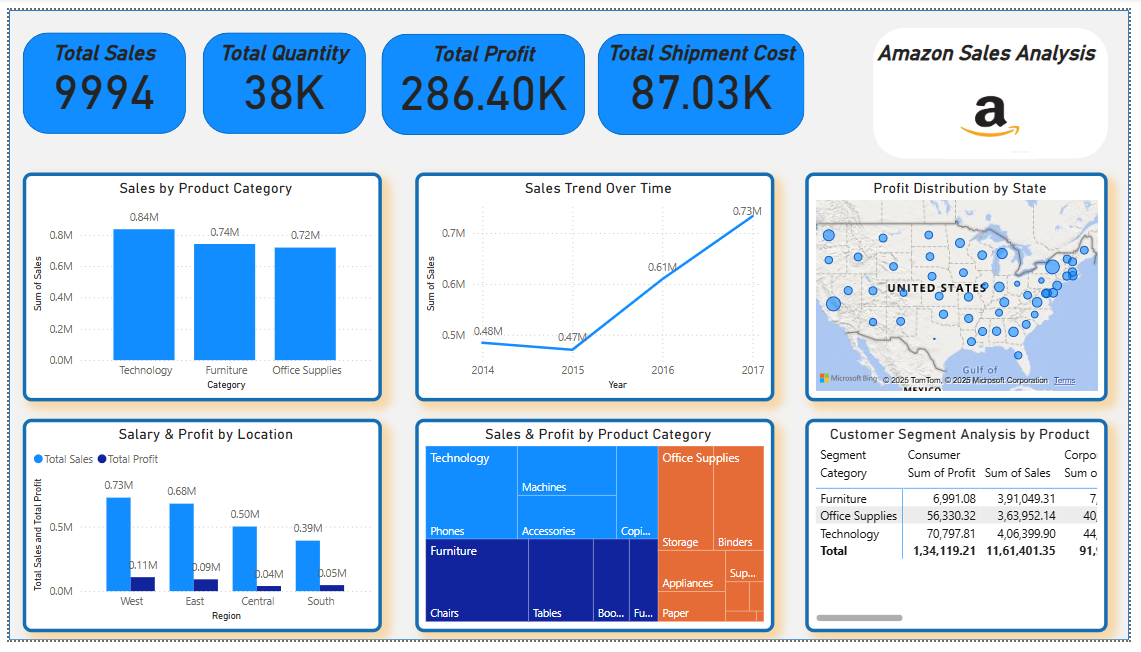

The page's visual inventory and layout, read from the dashboard file:
{"tool":"powerbi","page":{"name":"Page 1","canvas":[1280,720],"ordinal":0},"visuals":[{"type":"shape","box":[0,0,1280,720.3],"z":0},{"type":"shape","box":[221.4,25.7,186.6,115.7],"z":0,"group":"g2"},{"type":"shape","box":[987.1,20,269,150],"z":500,"group":"g5"},{"type":"group","id":"g1","title":"Group 1","box":[15.7,25.7,187.1,115.7],"z":1000},{"type":"card","title":"Total Quantity","fields":{"Values":["Sum(Orders.Quantity)"]},"box":[227.6,34.4,174.2,99.5],"z":1000,"group":"g2"},{"type":"image","box":[1067.3,74.4,107.1,95.7],"z":1000,"group":"g5"},{"type":"shape","box":[15.7,25.7,186.6,115.7],"z":1500,"group":"g1"},{"type":"group","id":"g2","title":"Group 2","box":[221.4,25.7,185.7,115.7],"z":2000},{"type":"textbox","box":[987.3,30.1,268.6,44.3],"z":2000,"group":"g5"},{"type":"card","title":"Total Sales","fields":{"Values":["CountNonNull(Orders.Order ID)"]},"box":[21.9,34.4,174.2,99.5],"z":2000,"group":"g1"},{"type":"shape","box":[425.7,27.1,232.6,115.7],"z":2002,"group":"g3"},{"type":"shape","box":[672.9,27.1,236.4,115.7],"z":2003,"group":"g4"},{"type":"card","title":"Total Profit","fields":{"Values":["Sum(Orders.Profit)"]},"box":[425.7,35.8,232.6,99.5],"z":2007,"group":"g3"},{"type":"card","title":"Total Shipment Cost","fields":{"Values":["Sum(Orders.Shipment Cost)"]},"box":[672.9,34.6,236.4,99.5],"z":2009,"group":"g4"},{"type":"group","id":"g3","title":"Group 3","box":[425.7,27.1,232.9,115.7],"z":3000},{"type":"group","id":"g4","title":"Group 4","box":[672.9,27.1,237.1,115.7],"z":4000},{"type":"clusteredColumnChart","title":"Sales by Product Category","fields":{"Category":["Orders.Category"],"Y":["Sum(Orders.Sales)"]},"box":[16.2,185.3,410.5,261.2],"z":5000},{"type":"lineChart","title":"Sales Trend Over Time","fields":{"Category":["Orders.Order Date.Variation.Date Hierarchy.Year","Orders.Order Date.Variation.Date Hierarchy.Quarter","Orders.Order Date.Variation.Date Hierarchy.Month","Orders.Order Date.Variation.Date Hierarchy.Day"],"Y":["Sum(Orders.Sales)"]},"box":[464,185.3,410.5,261.2],"z":6000},{"type":"map","title":"Profit Distribution by State","fields":{"Category":["Orders.State"],"Size":["Sum(Orders.Profit)"]},"box":[910.6,185.3,345.8,261.2],"z":7000},{"type":"clusteredColumnChart","title":"Salary & Profit by Location","fields":{"Category":["Orders.Region"],"Y":["Sum(Orders.Sales)","Sum(Orders.Profit)"]},"box":[16.2,466.5,410.5,243.8],"z":8000},{"type":"treemap","title":"Sales & Profit by Product Category","fields":{"Group":["Orders.Category"],"Details":["Orders.Sub-Category"],"Values":["Sum(Orders.Sales)"]},"box":[464,466.5,410.5,243.8],"z":9000},{"type":"pivotTable","title":"Customer Segment Analysis by Product","fields":{"Values":["Sum(Orders.Profit)","Sum(Orders.Sales)"],"Rows":["Orders.Category"],"Columns":["Orders.Segment"]},"box":[910.6,466.5,345.8,243.8],"z":10000},{"type":"group","id":"g5","title":"Group 1","box":[987.1,20,268.6,150],"z":10001}]}

Visuals, with their boxes in screenshot pixels (x1, y1, x2, y2), scaled from the page's 1280x720 canvas onto the 1141x652 screenshot:
shape: rect(0, 0, 1140, 651)
shape: rect(197, 23, 364, 128)
shape: rect(880, 18, 1120, 154)
"Group 1" group: rect(14, 23, 181, 128)
"Total Quantity" card: rect(203, 31, 358, 121)
image: rect(951, 67, 1047, 154)
shape: rect(14, 23, 180, 128)
"Group 2" group: rect(197, 23, 363, 128)
textbox: rect(880, 27, 1120, 67)
"Total Sales" card: rect(20, 31, 175, 121)
shape: rect(379, 25, 587, 129)
shape: rect(600, 25, 811, 129)
"Total Profit" card: rect(379, 32, 587, 123)
"Total Shipment Cost" card: rect(600, 31, 811, 121)
"Group 3" group: rect(379, 25, 587, 129)
"Group 4" group: rect(600, 25, 811, 129)
"Sales by Product Category" clusteredColumnChart: rect(14, 168, 380, 404)
"Sales Trend Over Time" lineChart: rect(414, 168, 780, 404)
"Profit Distribution by State" map: rect(812, 168, 1120, 404)
"Salary & Profit by Location" clusteredColumnChart: rect(14, 422, 380, 643)
"Sales & Profit by Product Category" treemap: rect(414, 422, 780, 643)
"Customer Segment Analysis by Product" pivotTable: rect(812, 422, 1120, 643)
"Group 1" group: rect(880, 18, 1119, 154)
